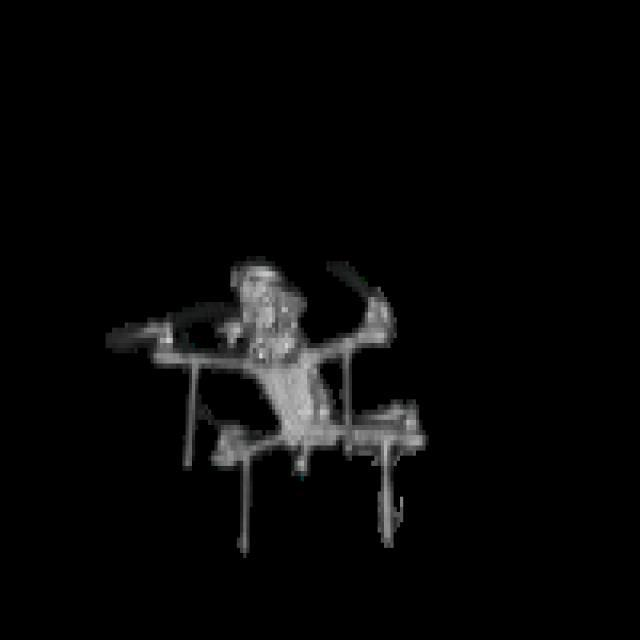drone: (104, 242, 454, 540)
